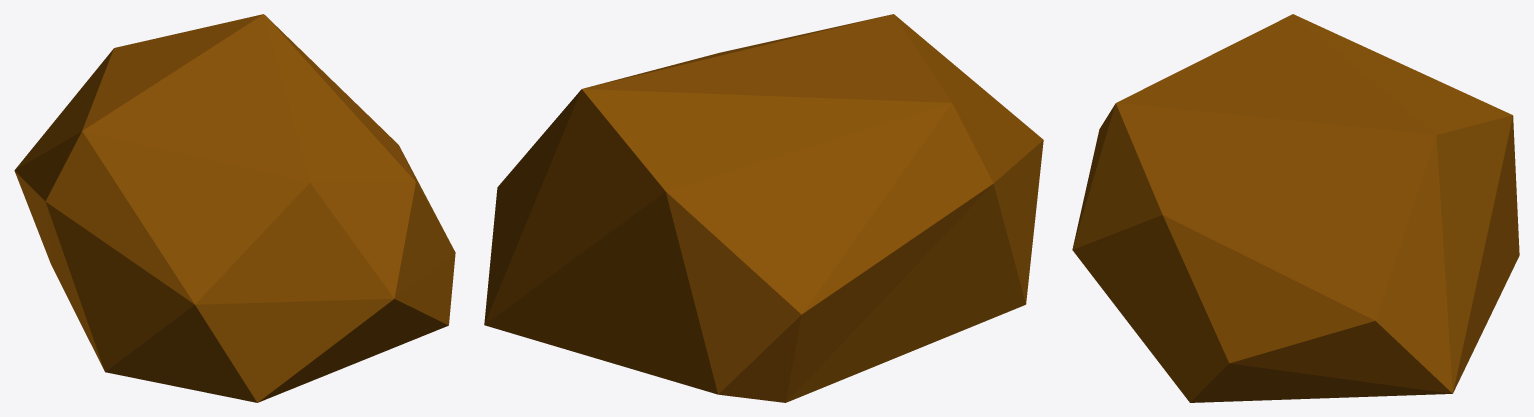
Rendered from Rock_07.fbx.
3 views of the same model, side by side, from view 1: azimuth 30°, elevation 25°; view 2: azimuth 150°, elevation 25°; view 3: azimuth 270°, elevation 25° (orthographic). The views are drawn at different scales.
Visible parts, largest first — view 1: Rock_07; view 2: Rock_07; view 3: Rock_07.
Boxes of the visible parts, box(x1,y1,x2,y2) form: Rock_07: box(14, 14, 455, 402); Rock_07: box(484, 14, 1043, 402); Rock_07: box(1072, 14, 1519, 402).
Bounding box in the file's own units: 1091 × 626 × 1069.
